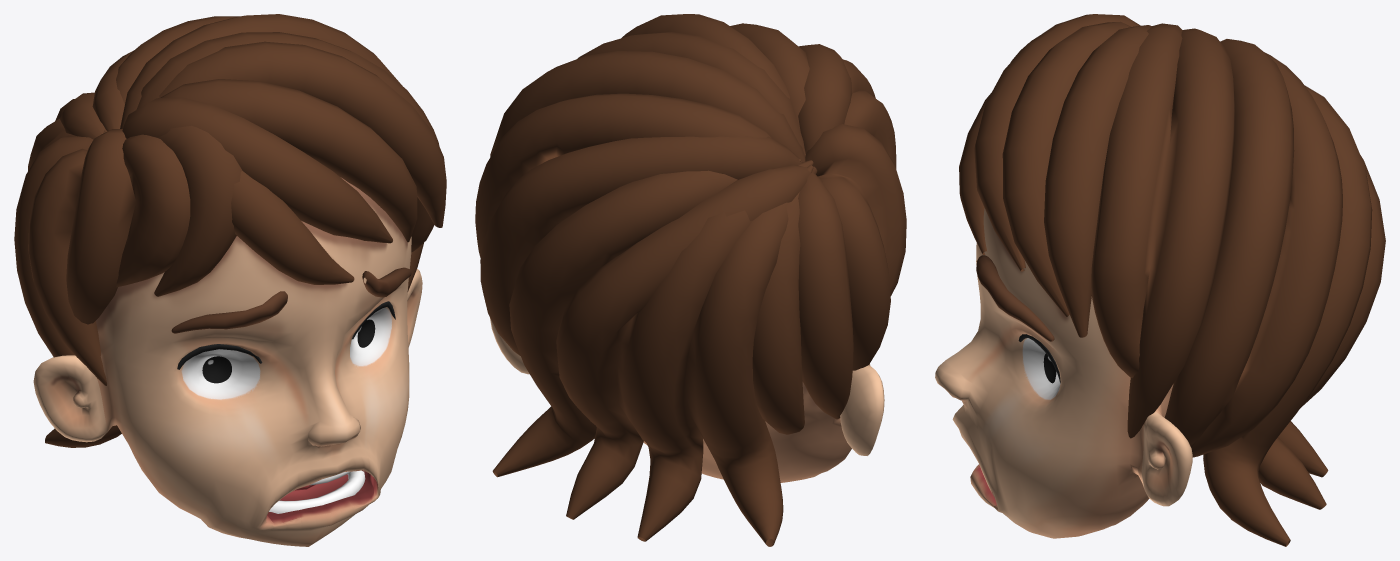
The model's file is KidScared.glb.
3 views of the same model, side by side, from view 1: azimuth 30°, elevation 25°; view 2: azimuth 150°, elevation 25°; view 3: azimuth 270°, elevation 25° (orthographic). The views are drawn at different scales.
Parts seen in each view (by area): view 1: BézierCurve.010, Cube.001, Cube.003; view 2: BézierCurve.010, Cube.001; view 3: BézierCurve.010, Cube.001.
Part boxes in pixels (bbox=[...]): BézierCurve.010: bbox=[14, 14, 446, 447]; Cube.001: bbox=[33, 177, 422, 546]; Cube.003: bbox=[177, 301, 395, 369]; BézierCurve.010: bbox=[475, 14, 906, 546]; Cube.001: bbox=[490, 318, 884, 482]; BézierCurve.010: bbox=[959, 14, 1385, 546]; Cube.001: bbox=[935, 208, 1192, 538].
Size of the model in its own units: 0.479 by 0.5499 by 0.4586.
3 materials, 2 textured.
